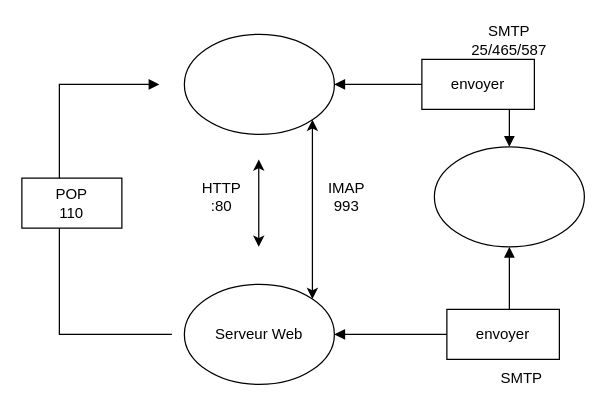
Some shapes in this 606 by 418 pixel diagram are drawn without their labels. The shapes that lost their labels are listed below. From the top down, each one's centre as x and y in pixels, then its label:
At (258,83): "Client (navigateur)".
At (508,196): "Email".
